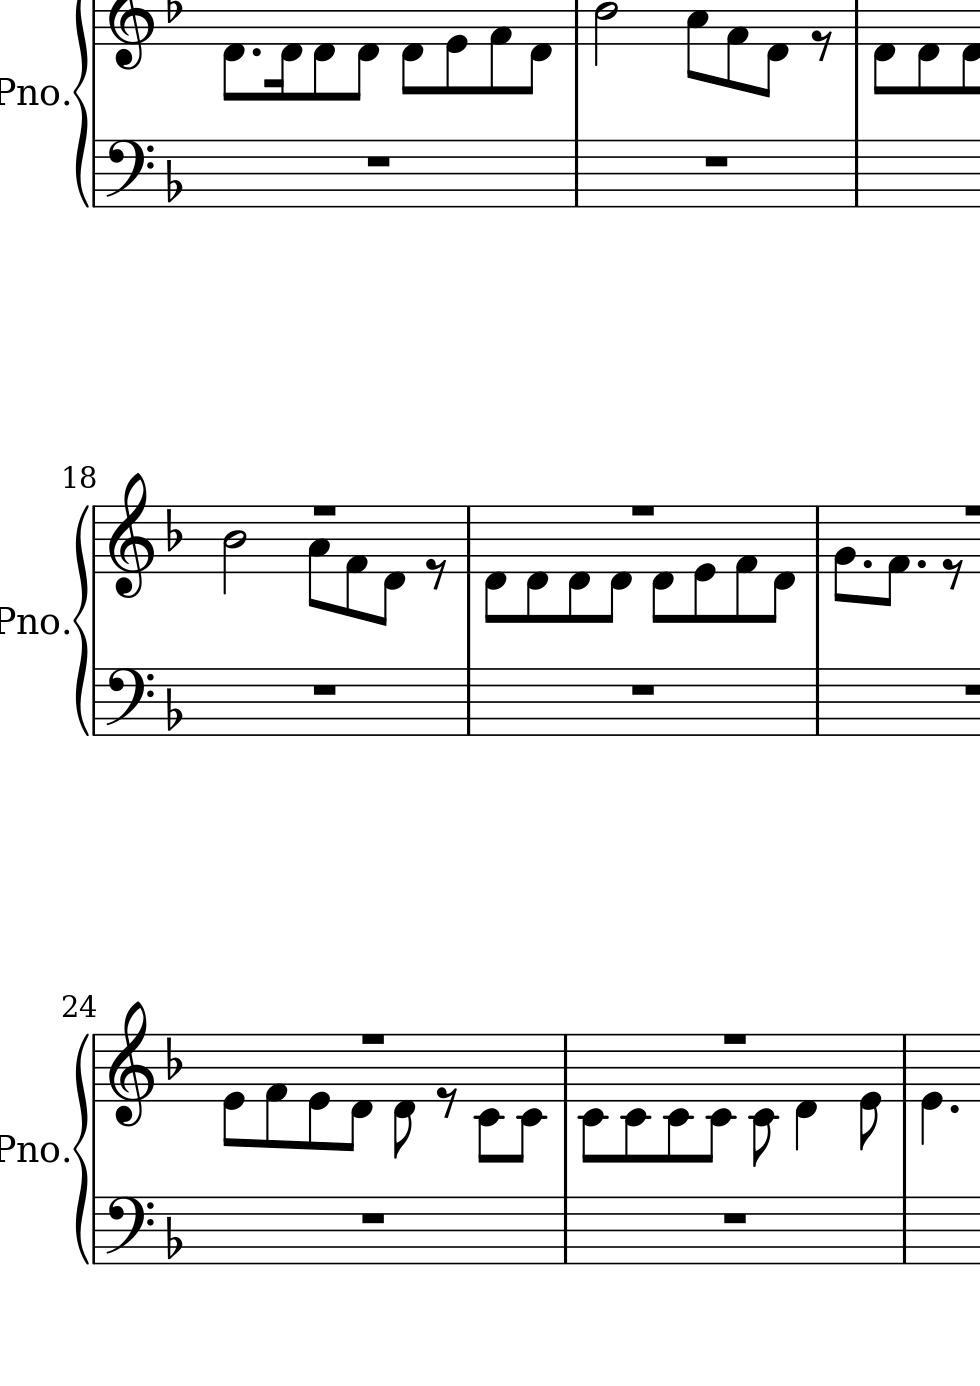1: (62, 463, 75, 490)
16_0: (692, 503, 715, 624)
2: (60, 994, 78, 1020)
2_4: (222, 504, 245, 593)
4: (78, 993, 97, 1020)
4_0: (918, 1033, 943, 1145)
8: (78, 462, 97, 490)
8_-1: (377, 503, 406, 628), (767, 504, 795, 624), (344, 1035, 372, 1155), (605, 504, 631, 624), (524, 504, 549, 625), (566, 502, 591, 627), (392, 1032, 416, 1159), (483, 505, 507, 624), (793, 1030, 817, 1154), (651, 506, 673, 625)
8_-2: (471, 1032, 504, 1165), (512, 1033, 545, 1163), (662, 1032, 693, 1164), (619, 1033, 650, 1163), (577, 1032, 607, 1164), (703, 1037, 734, 1163), (749, 1032, 777, 1166)
8_0: (307, 1032, 331, 1152), (858, 1032, 881, 1150), (222, 1033, 245, 1148)
8_1: (881, 503, 910, 609), (734, 503, 758, 624), (344, 503, 368, 622), (264, 1031, 288, 1151)
8_2: (832, 505, 856, 603)
Brace: (72, 1032, 90, 1269), (72, 501, 90, 737), (71, 1, 90, 212)
Fclef: (102, 138, 153, 209), (102, 1194, 153, 1265), (102, 666, 153, 736)
Flat: (163, 1213, 183, 1262), (163, 157, 183, 205), (163, 505, 183, 552), (163, 685, 183, 733), (163, 1034, 183, 1082)
Gclef: (106, 999, 153, 1128), (106, 471, 153, 599)
Pno: (1, 603, 60, 641), (1, 75, 60, 110), (1, 1131, 59, 1166)
Rests1: (308, 680, 340, 698), (309, 501, 339, 520), (357, 1208, 388, 1227), (362, 152, 393, 170), (627, 501, 658, 519), (627, 680, 658, 698), (357, 1030, 388, 1048), (719, 1030, 750, 1048), (701, 152, 731, 170), (719, 1209, 750, 1226)
Rests8: (940, 556, 965, 592), (435, 1084, 459, 1120), (424, 556, 448, 591)
Single_barline: (556, 1035, 574, 1101), (556, 1196, 573, 1264), (895, 1196, 912, 1264), (809, 668, 825, 736), (568, 140, 584, 207), (809, 506, 825, 573), (460, 669, 476, 736), (848, 140, 864, 206), (460, 506, 476, 572), (896, 1035, 912, 1101), (87, 1034, 102, 1101), (88, 140, 102, 207), (88, 506, 102, 573), (88, 669, 102, 735), (88, 1197, 101, 1264), (568, 1, 585, 45), (848, 1, 864, 43), (88, 1, 102, 43)
dot: (248, 45, 263, 59), (860, 557, 874, 571), (914, 557, 928, 571), (947, 1102, 961, 1116)
